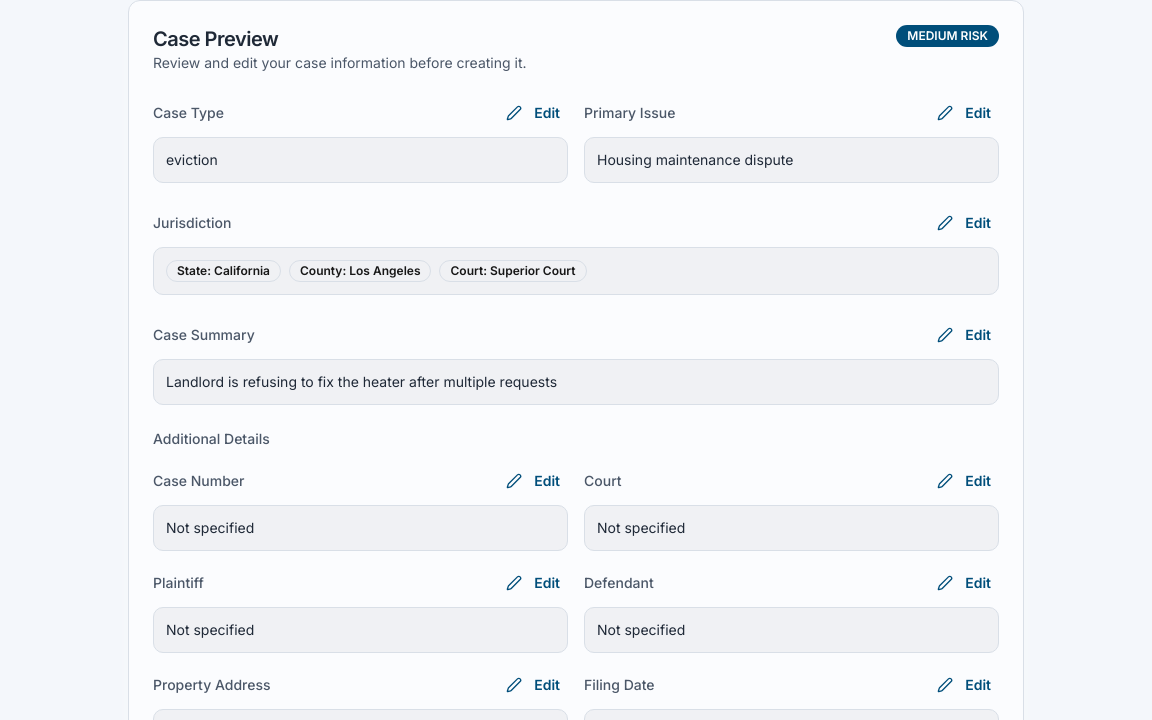
Test: CasePreviewCard › handles textarea fields correctly
The image size is (1152, 720).
Click the button "Edit" in the row of "Case Summary" at (964, 335), box [929,319,999,351]
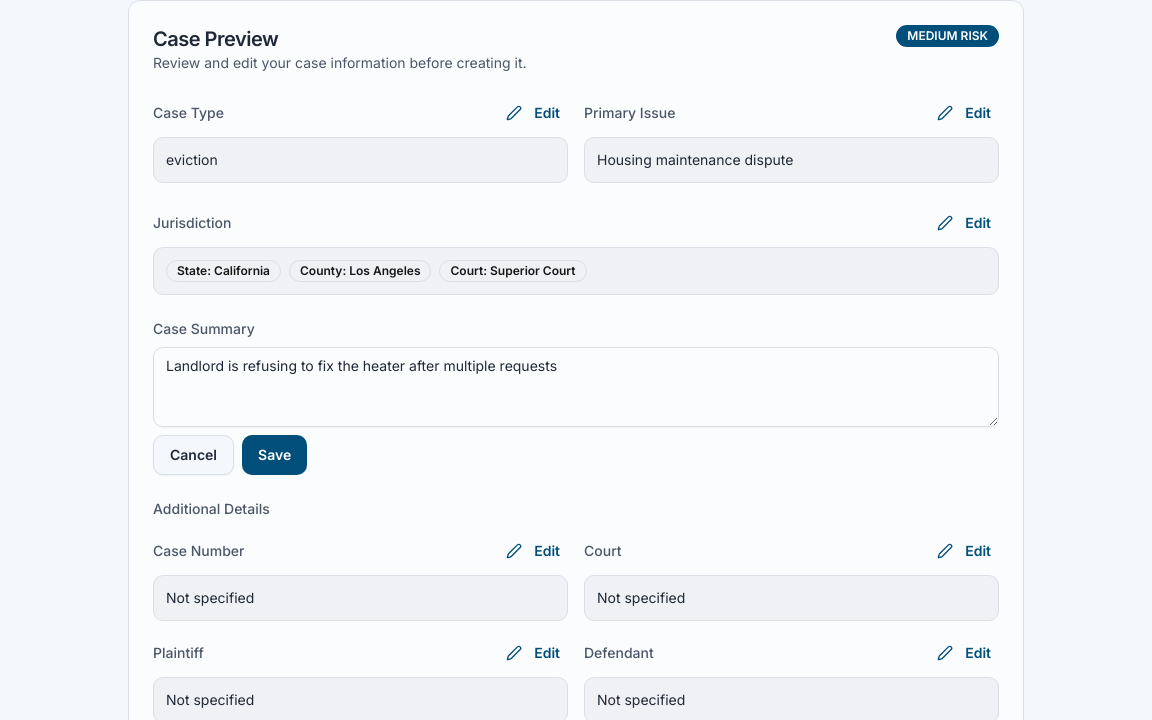
Check: the text box is shown, box [153,347,999,427]
